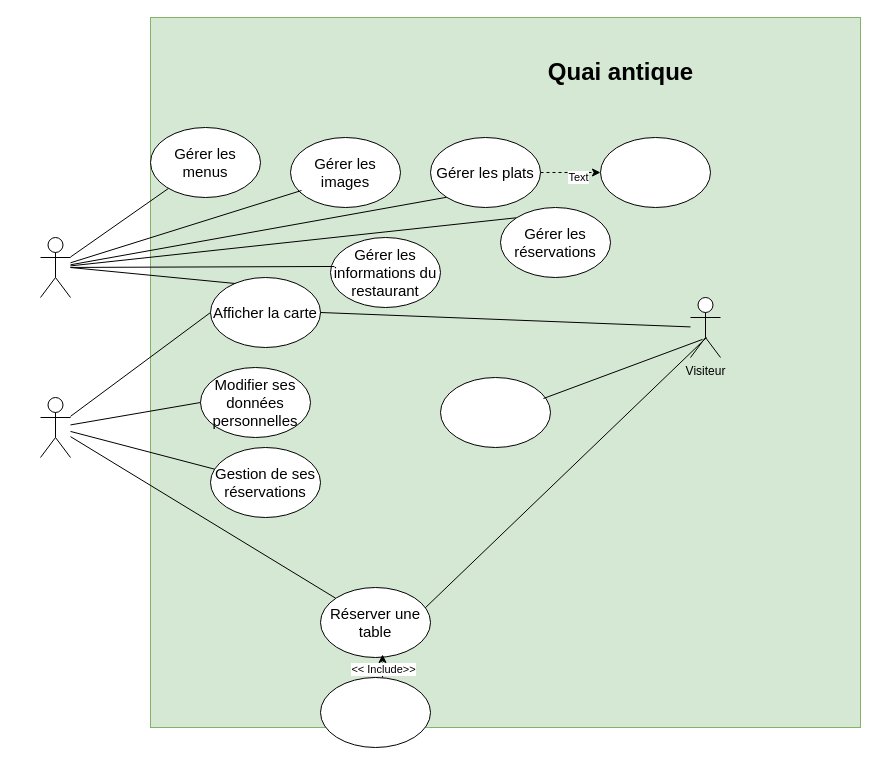
The diagram is 878 pixels wide and 765 high, and some of its shapes have lost their labels. Here are the shapes that lost their labels. From the top down, the centre of each, then its label:
At [655,172]: "Gérer les catégories".
At [55,267]: "Administrateur".
At [55,427]: "Client".
At [495,412]: "Inscription".
At [375,712]: "Connexion".
